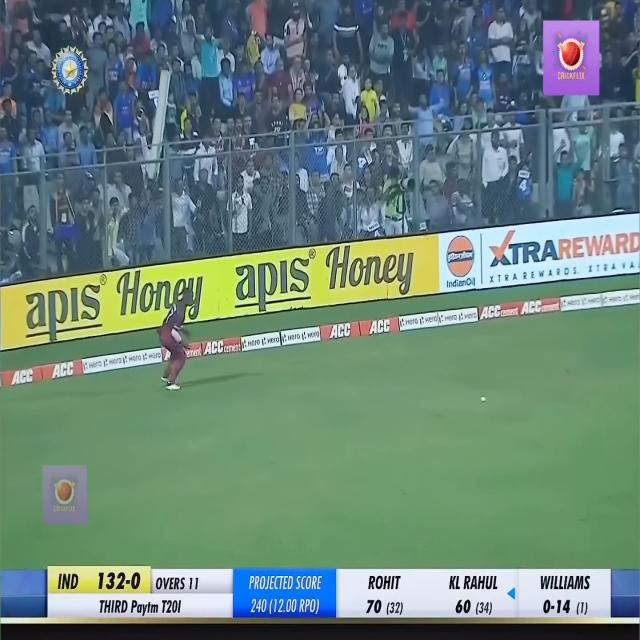fully_visible: (130, 591, 163, 623)
